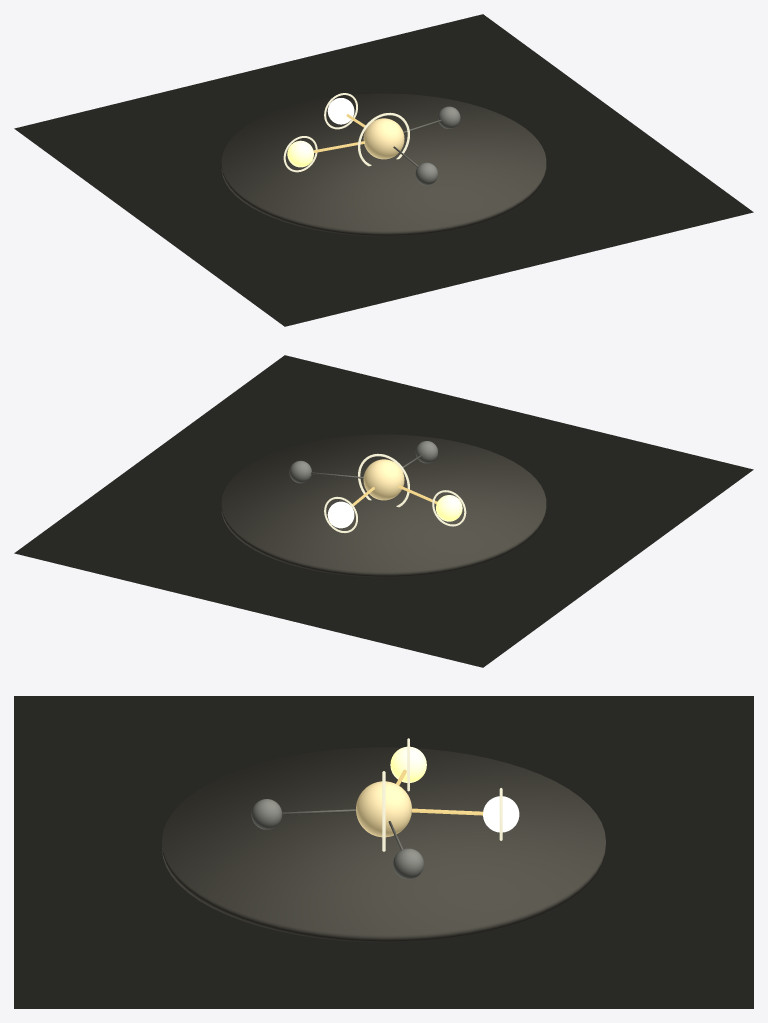
Rendered from visibility-field.glb.
The picture shows the model from 3 angles, top to bottom: view 1: azimuth 30°, elevation 25°; view 2: azimuth 150°, elevation 25°; view 3: azimuth 270°, elevation 25°; orthographic projection. The views are drawn at different scales.
Visible parts, largest first — view 1: Ground, Plinth, Hub, Node_perplexity, Node_web_serp; view 2: Ground, Plinth, Hub, Node_web_serp, Node_perplexity; view 3: Ground, Plinth, Hub, Node_web_serp, Node_perplexity, Node_google_aio, Node_chatgpt.
Boxes of the visible parts, x1=… form: Ground: x1=14, y1=14, x2=753, y2=326; Plinth: x1=221, y1=93, x2=546, y2=236; Hub: x1=363, y1=118, x2=404, y2=159; Node_perplexity: x1=287, y1=140, x2=313, y2=167; Node_web_serp: x1=327, y1=98, x2=354, y2=124; Ground: x1=14, y1=355, x2=753, y2=667; Plinth: x1=221, y1=434, x2=546, y2=577; Hub: x1=363, y1=459, x2=404, y2=500; Node_web_serp: x1=327, y1=501, x2=354, y2=528; Node_perplexity: x1=436, y1=495, x2=462, y2=521; Ground: x1=14, y1=696, x2=753, y2=1008; Plinth: x1=162, y1=747, x2=605, y2=942; Hub: x1=356, y1=781, x2=411, y2=837; Node_web_serp: x1=483, y1=796, x2=519, y2=832; Node_perplexity: x1=390, y1=746, x2=426, y2=782; Node_google_aio: x1=393, y1=848, x2=423, y2=879; Node_chatgpt: x1=251, y1=799, x2=282, y2=829.
Bounding box in the file's own units: 5.28 × 0.612 × 5.28.
